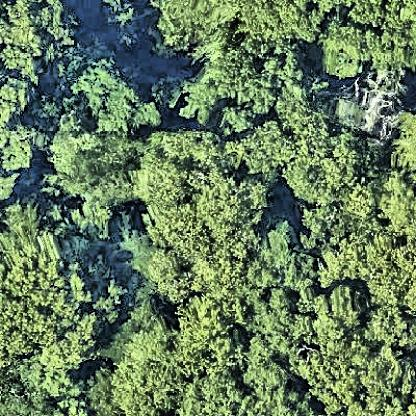tree-top: (128, 142, 273, 274), (2, 202, 87, 348), (45, 113, 145, 223), (102, 305, 180, 416), (166, 56, 272, 135), (299, 339, 405, 414), (321, 0, 416, 79), (318, 231, 416, 307), (0, 198, 67, 300), (284, 127, 370, 204), (71, 56, 154, 132), (0, 0, 80, 71), (222, 0, 326, 50), (147, 0, 248, 49), (164, 359, 250, 416), (252, 226, 316, 302), (337, 71, 410, 134), (244, 338, 301, 416), (0, 84, 46, 179), (173, 295, 237, 359), (34, 354, 110, 400), (314, 280, 370, 340), (361, 300, 416, 352), (246, 287, 301, 335), (83, 273, 130, 325), (375, 173, 414, 235), (390, 107, 416, 192), (225, 176, 274, 218), (298, 204, 347, 245), (117, 224, 150, 276), (90, 0, 144, 28)
